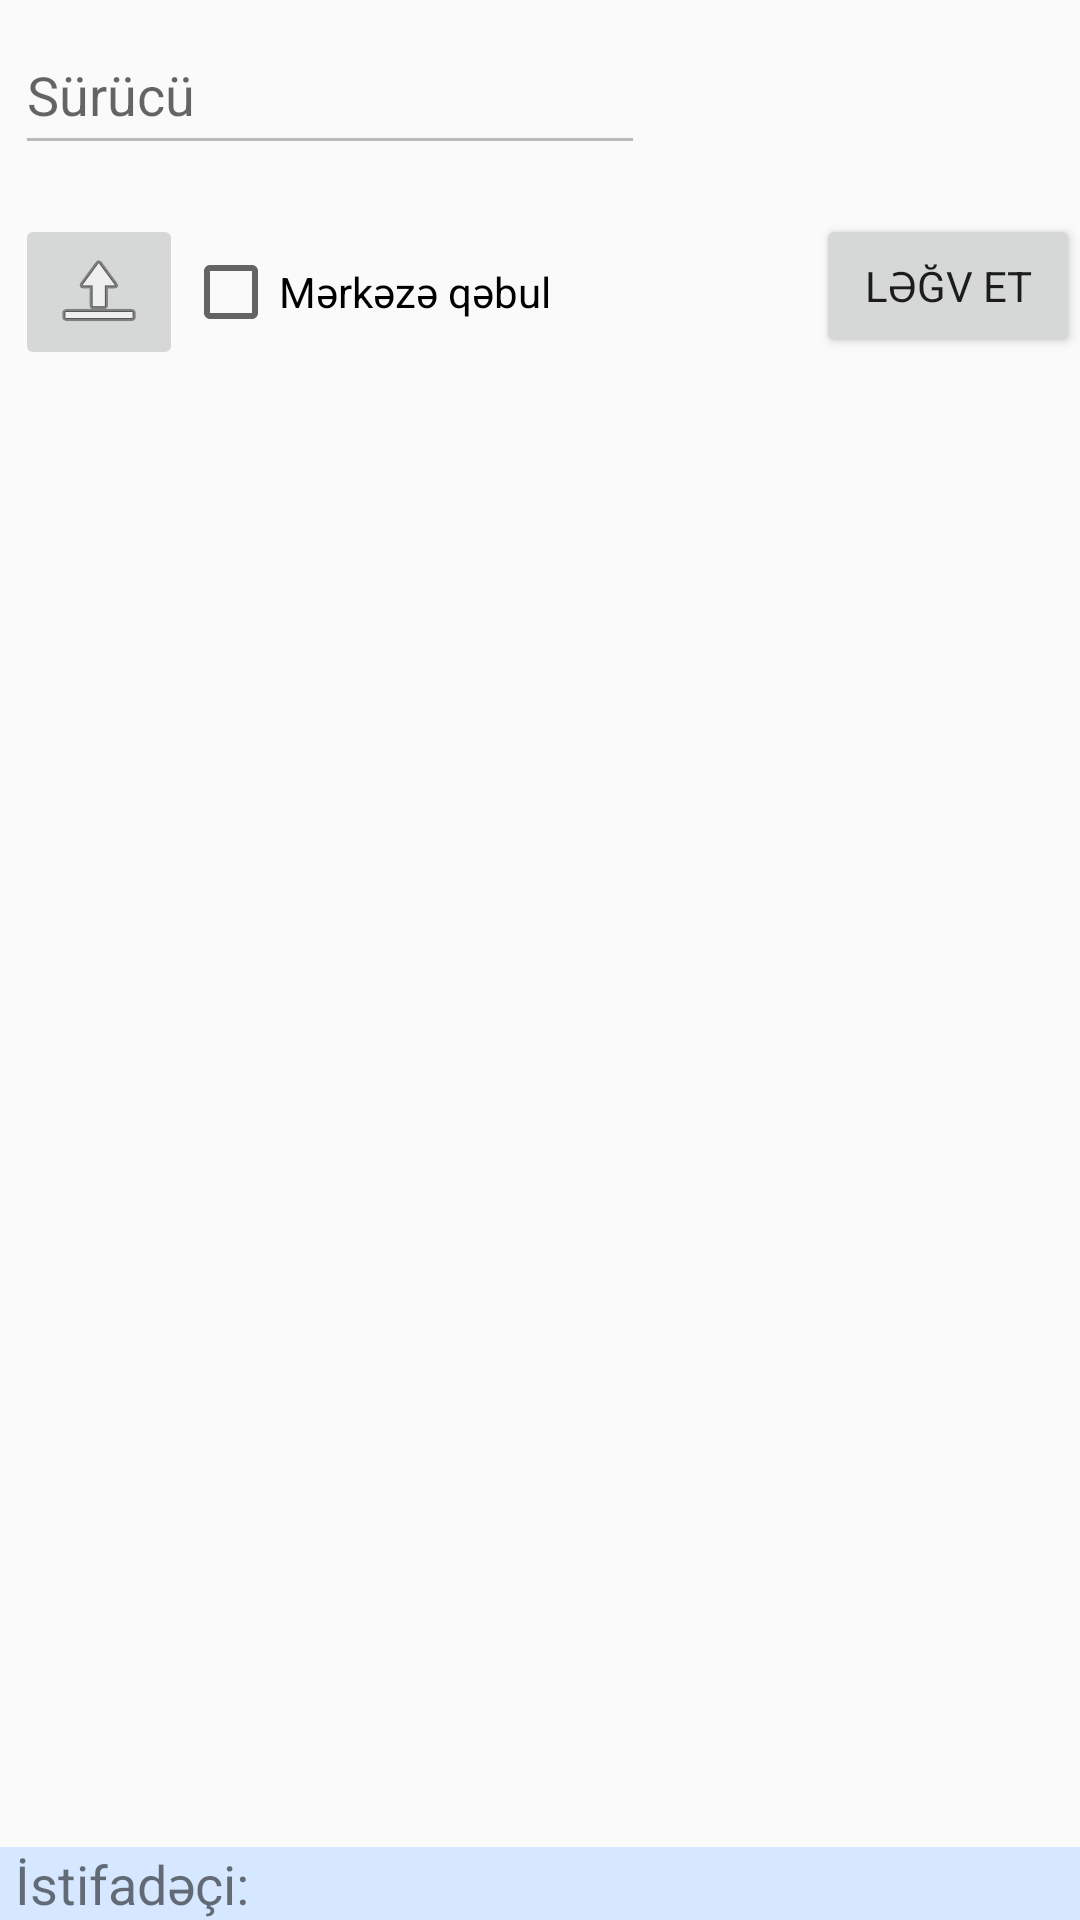

Screen size 1080*1920. Icon name, then its center in pixels as (x,y):
Göndər: (99,292)
